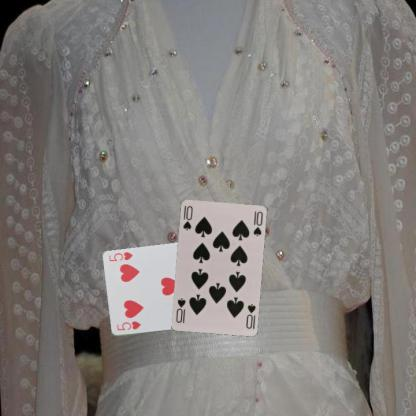10s: (180, 203, 194, 232), (243, 301, 257, 330)
5h: (114, 318, 142, 332)
